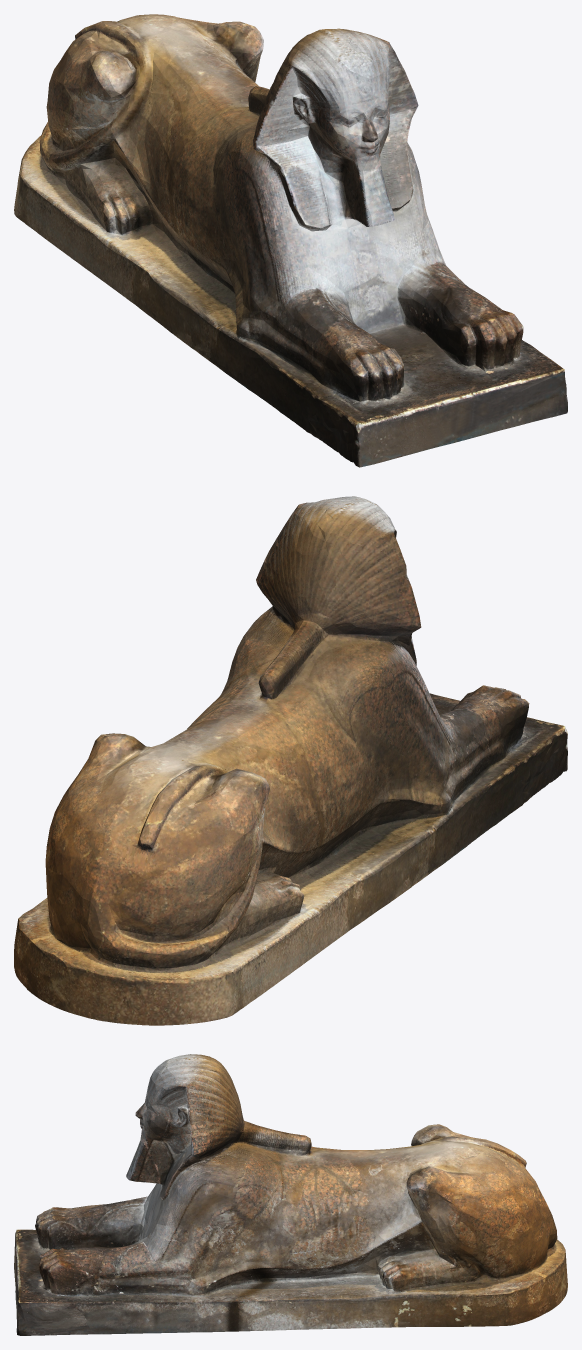
File: SphinxModel.obj
The picture shows the model from 3 angles, top to bottom: view 1: azimuth 30°, elevation 25°; view 2: azimuth 150°, elevation 25°; view 3: azimuth 270°, elevation 25°; orthographic projection. The views are drawn at different scales.
Bounding box in the file's own units: 0.855 × 1.18 × 2.5.
Materials: 1 (1 with a texture image).
